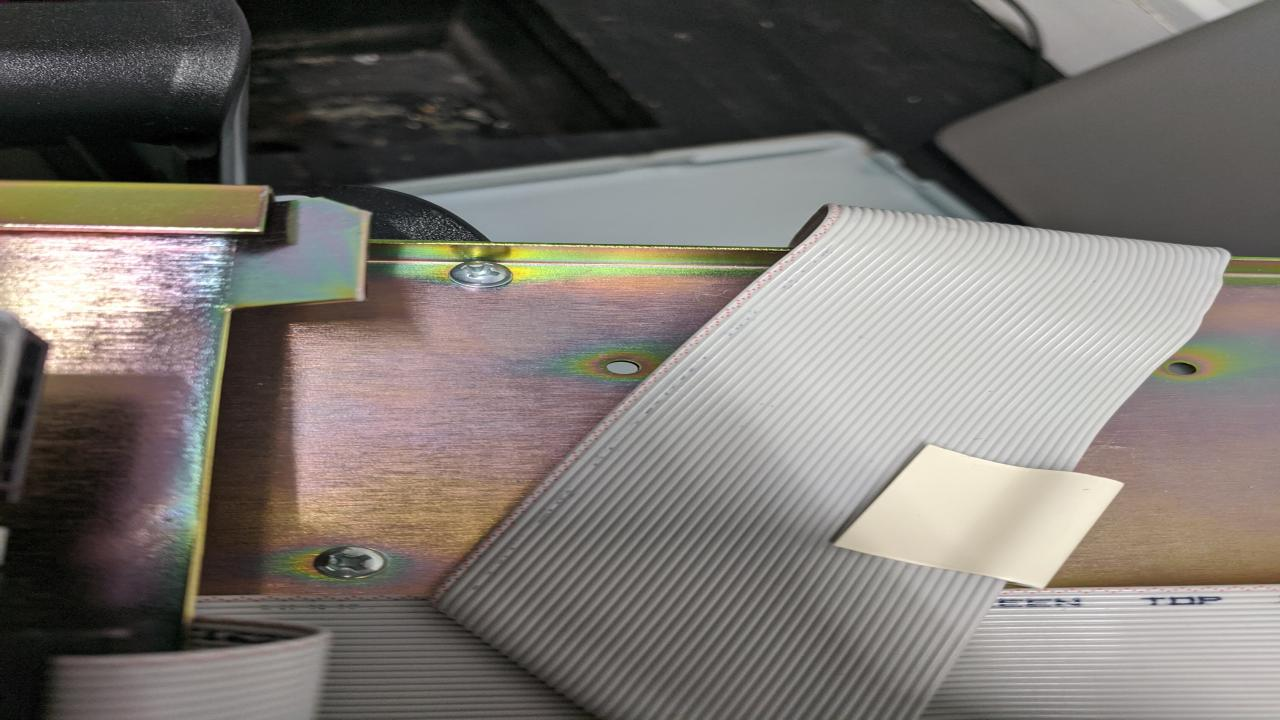CRS: (311, 546, 384, 578), (448, 259, 514, 288)
